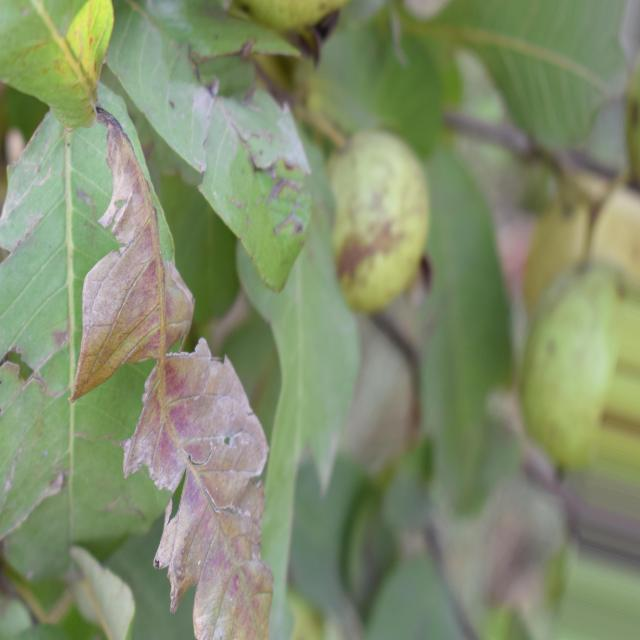Canker: (71, 107, 272, 639), (0, 112, 169, 581), (108, 0, 310, 291)
